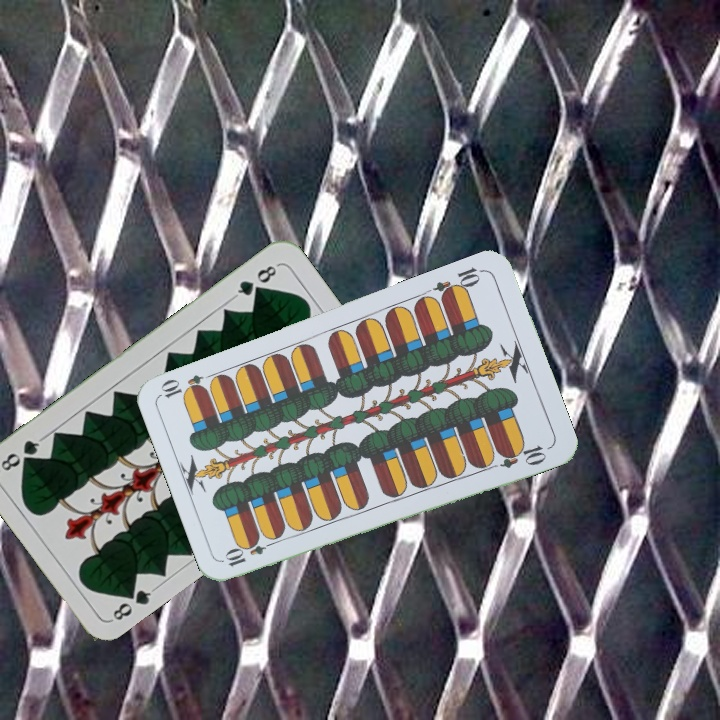E10: (430, 263, 487, 303), (222, 535, 279, 570)
G8: (107, 581, 159, 624), (230, 260, 282, 301)
